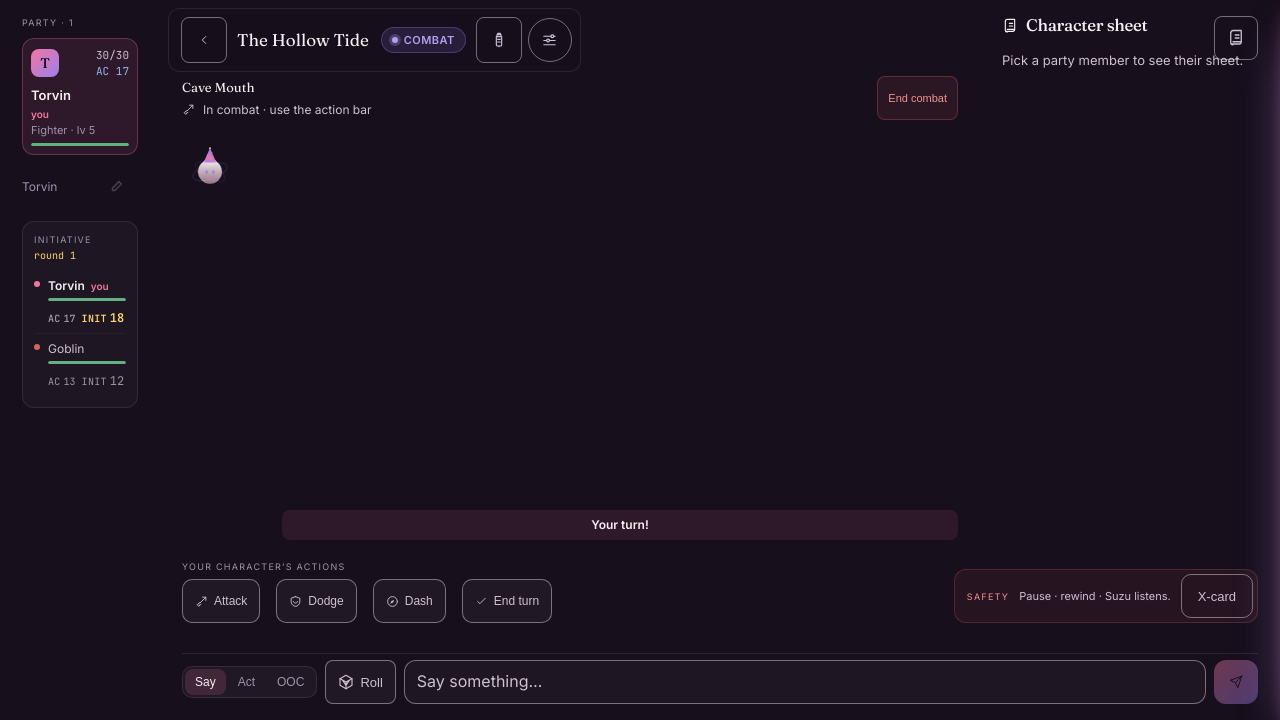
Test case: TAV-COMBAT-NO-ACTION-REMAINING-UNMAPPED — attack path (inline catch) › a second Extra Attack swing (no_action_remaining, real proxy body, message ABSENT) shows the curated action-economy copy, not the miss-language fallback
Expected: the text "The Hollow Tide" is shown, [237,27,369,53]
Click the button "Attack" at (221, 601), box [182,579,260,623]
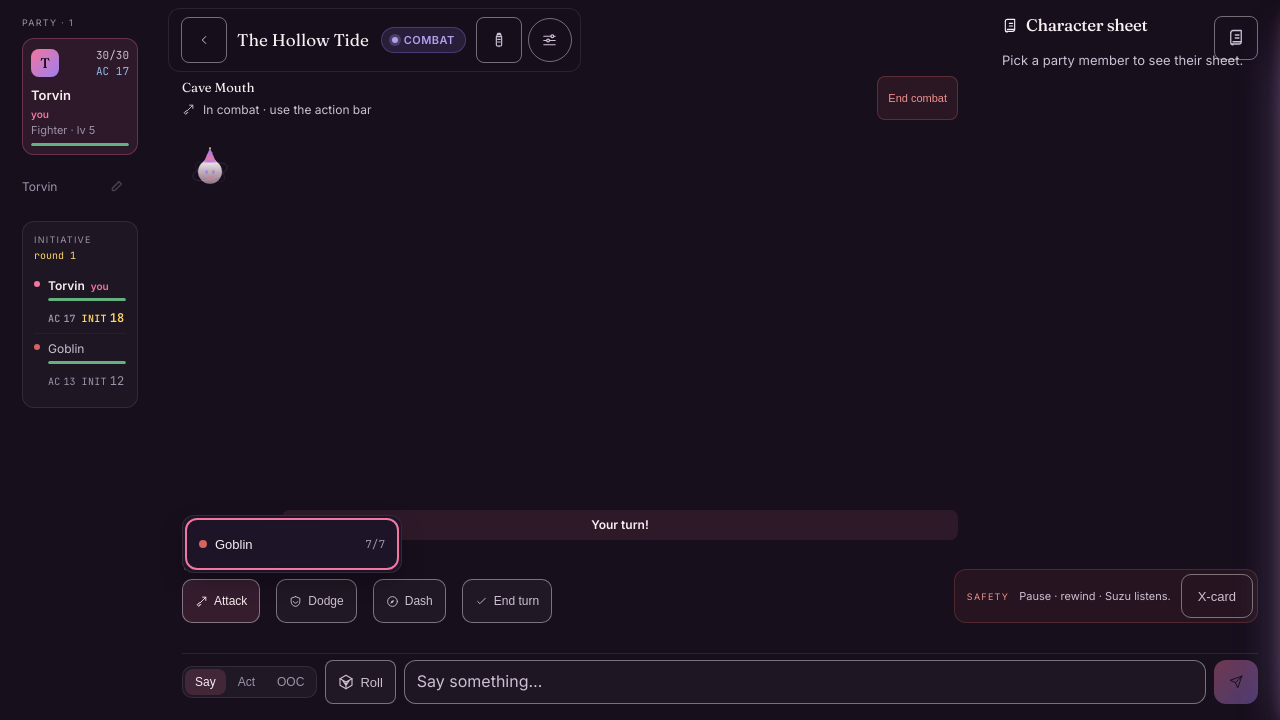
Result: the menu is shown at [182,515,402,573]
Click the menu item "Goblin 7/7" at (292, 544), box [189,522,395,566]
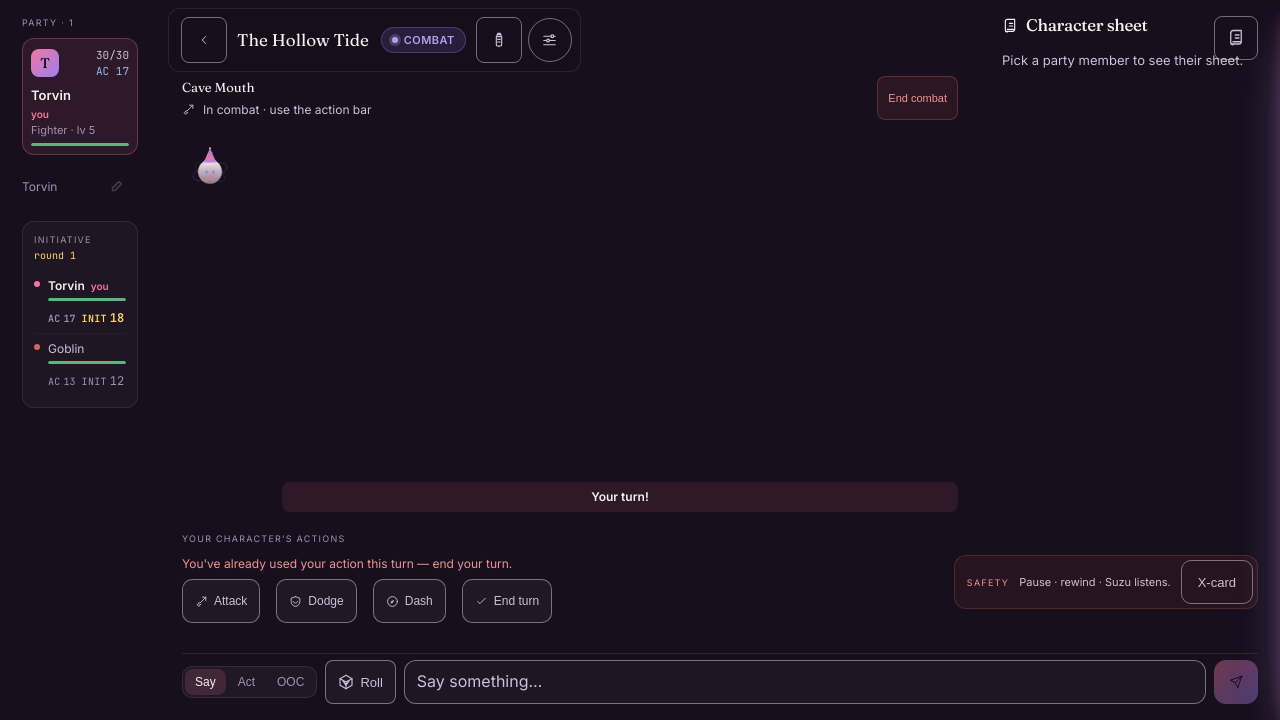
Result: the message "You've already used your action this turn — end your turn." is shown at [182,556,512,571]
